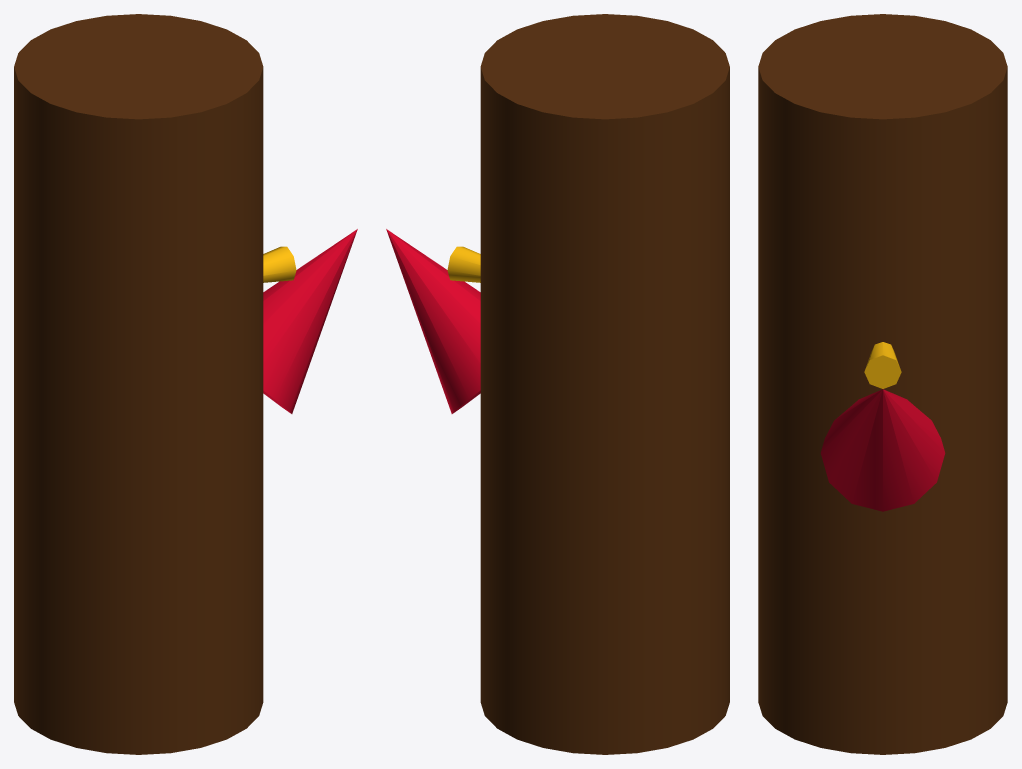
File: woodpecker_tree.glb
3 renders of one model, left to right at view 1: azimuth 30°, elevation 25°; view 2: azimuth 150°, elevation 25°; view 3: azimuth 270°, elevation 25°, orthographic.
Parts seen in each view (by area): view 1: model_woodpecker_tree; view 2: model_woodpecker_tree; view 3: model_woodpecker_tree.
Part boxes in pixels (x1,y1,x2,y2): model_woodpecker_tree: [14, 14, 357, 754]; model_woodpecker_tree: [386, 14, 729, 754]; model_woodpecker_tree: [758, 14, 1007, 754].
Size of the model in its own units: 2.42 by 4.5 by 1.6.
